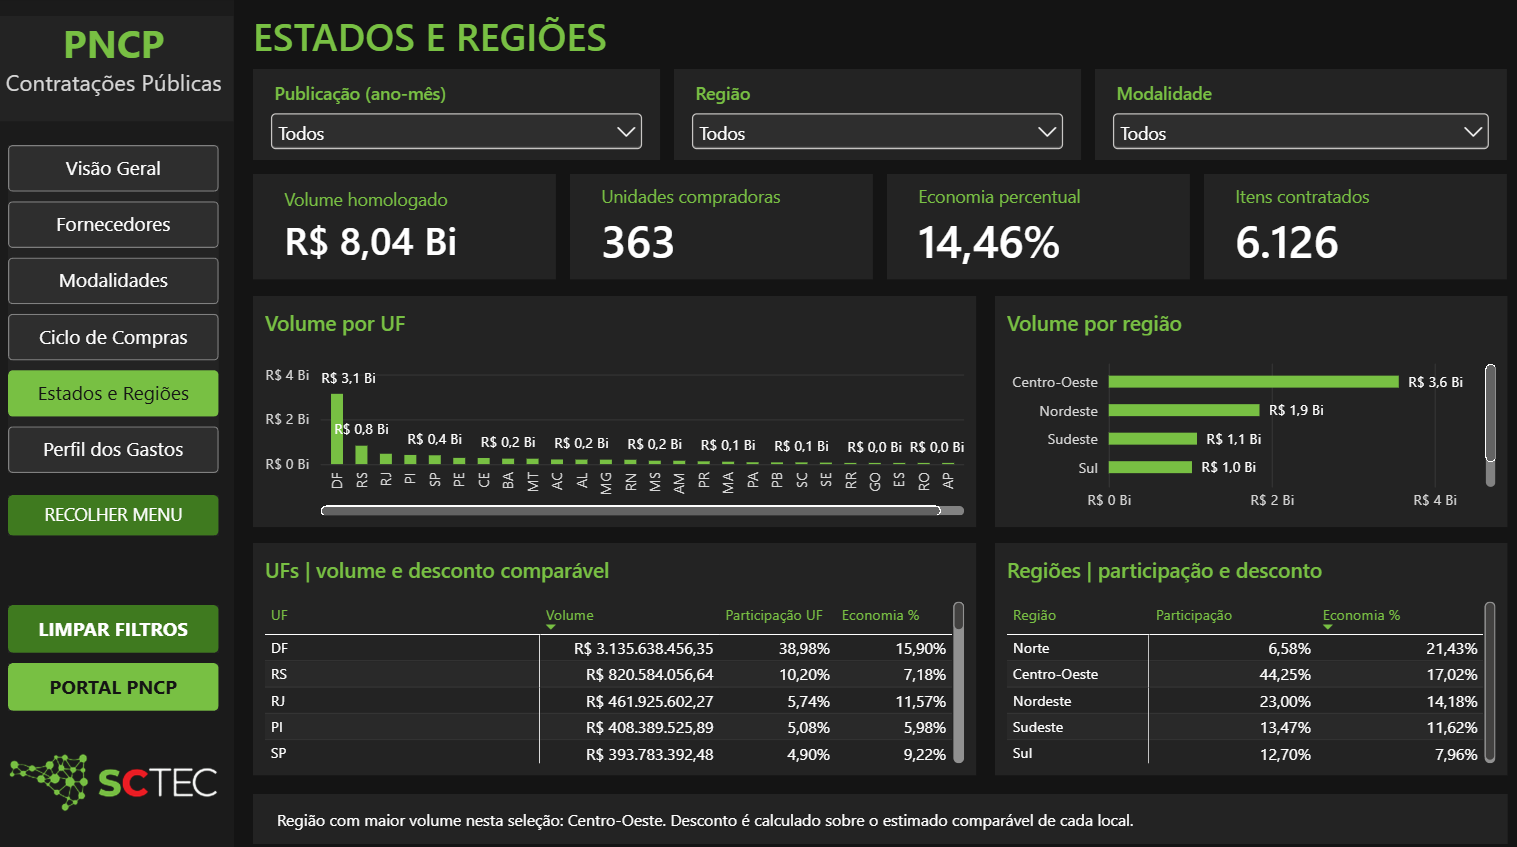

Layout of this report page (visuals, bound fields, positions):
{"tool":"powerbi","page":{"name":"Estados e Regiões","canvas":[1280,720],"ordinal":4},"visuals":[{"type":"shape","box":[0,0,200,720],"z":0},{"type":"textbox","box":[0,16,200,88],"z":1000},{"type":"pageNavigator","box":[12,124,176,274],"z":2000},{"type":"actionButton","box":[12,508,176,40],"z":3000},{"type":"image","box":[12,628,176,56],"z":4000},{"type":"actionButton","box":[12,556,176,40],"z":5000},{"type":"clusteredBarChart","title":"Volume por região","fields":{"Category":["dim_localidade.regiao"],"Y":["Indicadores.Volume_homologado"]},"box":[836,250,428,193.4],"z":12000},{"type":"cardVisual","fields":{"Data":["Indicadores.Leitura_territorio"]},"box":[216,666,1048,42],"z":13000},{"type":"pivotTable","title":"UFs | volume e desconto comparável","fields":{"Rows":["dim_localidade.uf_sigla"],"Values":["Indicadores.Volume_homologado","Indicadores.Participacao_UF","Indicadores.Economia_percentual"]},"box":[216,455.7,604,194.3],"z":15000},{"type":"cardVisual","fields":{"Data":["Indicadores.Volume_homologado"]},"box":[216,148,253,88],"z":16000},{"type":"pivotTable","title":"Regiões | participação e desconto","fields":{"Rows":["dim_localidade.regiao"],"Values":["Indicadores.Participacao_regiao","Indicadores.Economia_percentual"]},"box":[836,455.7,428,194.3],"z":17000},{"type":"cardVisual","fields":{"Data":["Indicadores.Economia_percentual"]},"box":[746,148,253,88],"z":18000},{"type":"slicer","fields":{"Values":["Calendario.Ano_Mes"]},"box":[216,60,340,76],"z":19000},{"type":"cardVisual","fields":{"Data":["Indicadores.Total_itens"]},"box":[1011,148,253,88],"z":22000},{"type":"slicer","fields":{"Values":["dim_localidade.regiao"]},"box":[568,60,340,76],"z":24000},{"type":"cardVisual","fields":{"Data":["Indicadores.Unidades_compradoras"]},"box":[481,148,253,88],"z":25000},{"type":"clusteredColumnChart","title":"Volume por UF","fields":{"Category":["dim_localidade.uf_sigla"],"Y":["Indicadores.Volume_homologado"]},"box":[216,250,604,193.4],"z":27000},{"type":"slicer","fields":{"Values":["dim_modalidade.nome_modalidade"]},"box":[920,60,344,76],"z":28000},{"type":"textbox","box":[216,10,1048,44],"z":30000},{"type":"actionButton","box":[12,416,176,34],"z":33000}]}

Visuals, with their boxes on the page's 1280x720 design canvas (x1, y1, x2, y2). These are canvas units, not pixel positions in the 1517x847 screenshot, which may show the page scaled, cropped or inside an application window:
shape: detection(0, 0, 200, 720)
textbox: detection(0, 16, 200, 104)
pageNavigator: detection(12, 124, 188, 398)
actionButton: detection(12, 508, 188, 548)
image: detection(12, 628, 188, 684)
actionButton: detection(12, 556, 188, 596)
"Volume por região" clusteredBarChart: detection(836, 250, 1264, 443)
cardVisual - Indicadores.Leitura_territorio: detection(216, 666, 1264, 708)
"UFs | volume e desconto comparável" pivotTable: detection(216, 456, 820, 650)
cardVisual - Indicadores.Volume_homologado: detection(216, 148, 469, 236)
"Regiões | participação e desconto" pivotTable: detection(836, 456, 1264, 650)
cardVisual - Indicadores.Economia_percentual: detection(746, 148, 999, 236)
slicer - Calendario.Ano_Mes: detection(216, 60, 556, 136)
cardVisual - Indicadores.Total_itens: detection(1011, 148, 1264, 236)
slicer - dim_localidade.regiao: detection(568, 60, 908, 136)
cardVisual - Indicadores.Unidades_compradoras: detection(481, 148, 734, 236)
"Volume por UF" clusteredColumnChart: detection(216, 250, 820, 443)
slicer - dim_modalidade.nome_modalidade: detection(920, 60, 1264, 136)
textbox: detection(216, 10, 1264, 54)
actionButton: detection(12, 416, 188, 450)
